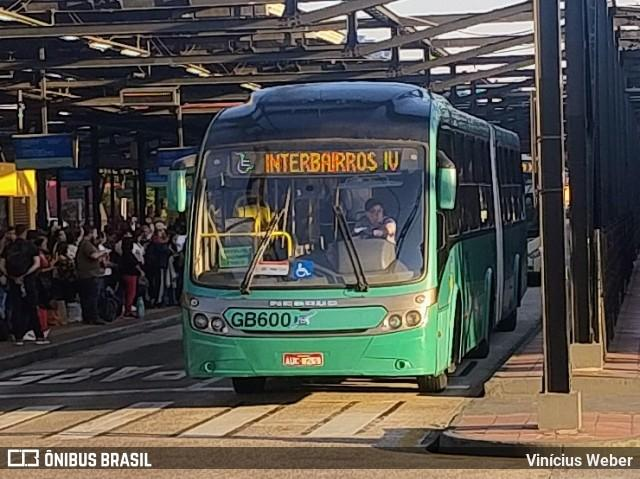INTERBAIRROS IV: (260, 147, 404, 177)
